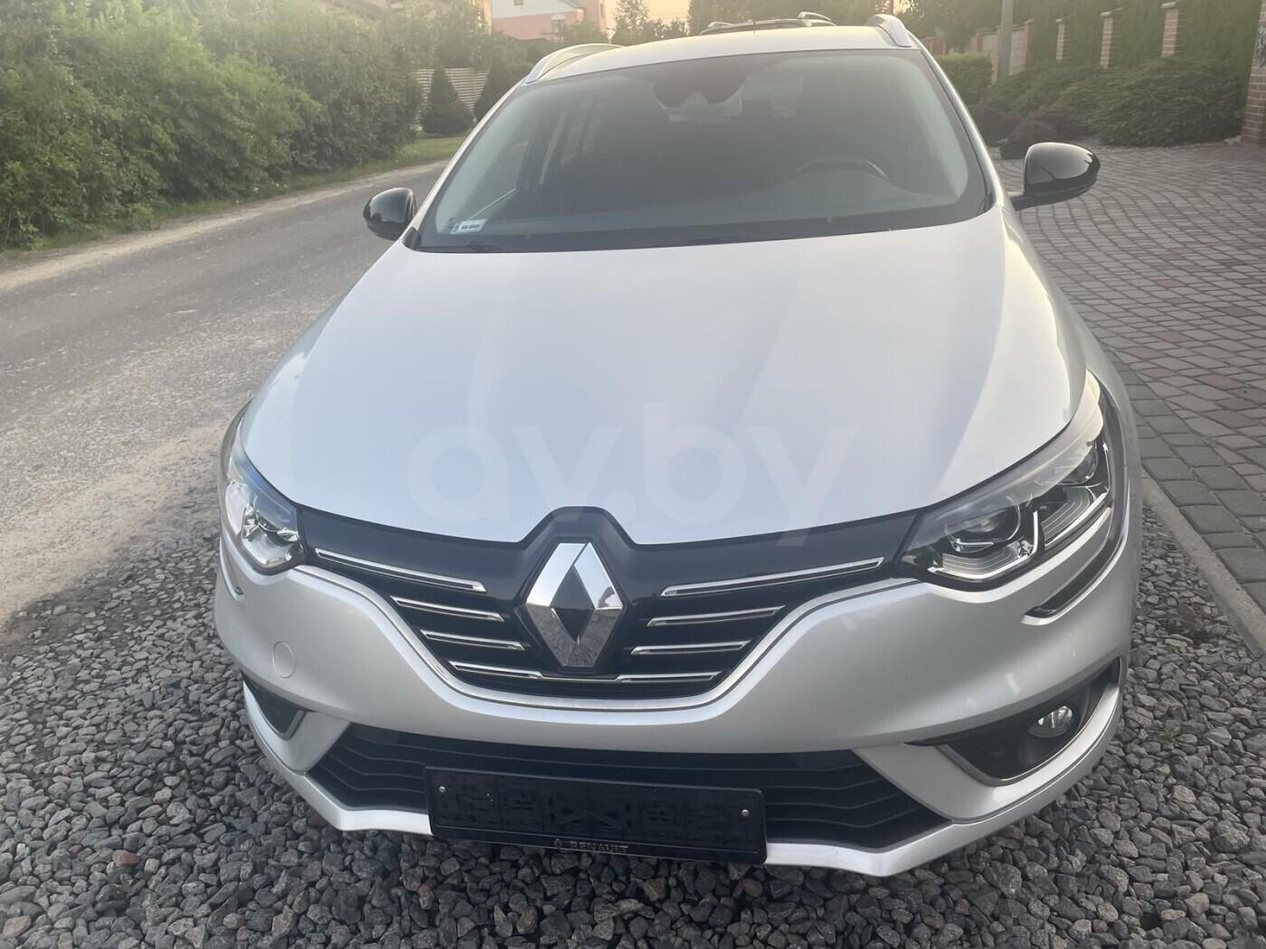Megane_2016-2020: (207, 30, 1145, 897)
